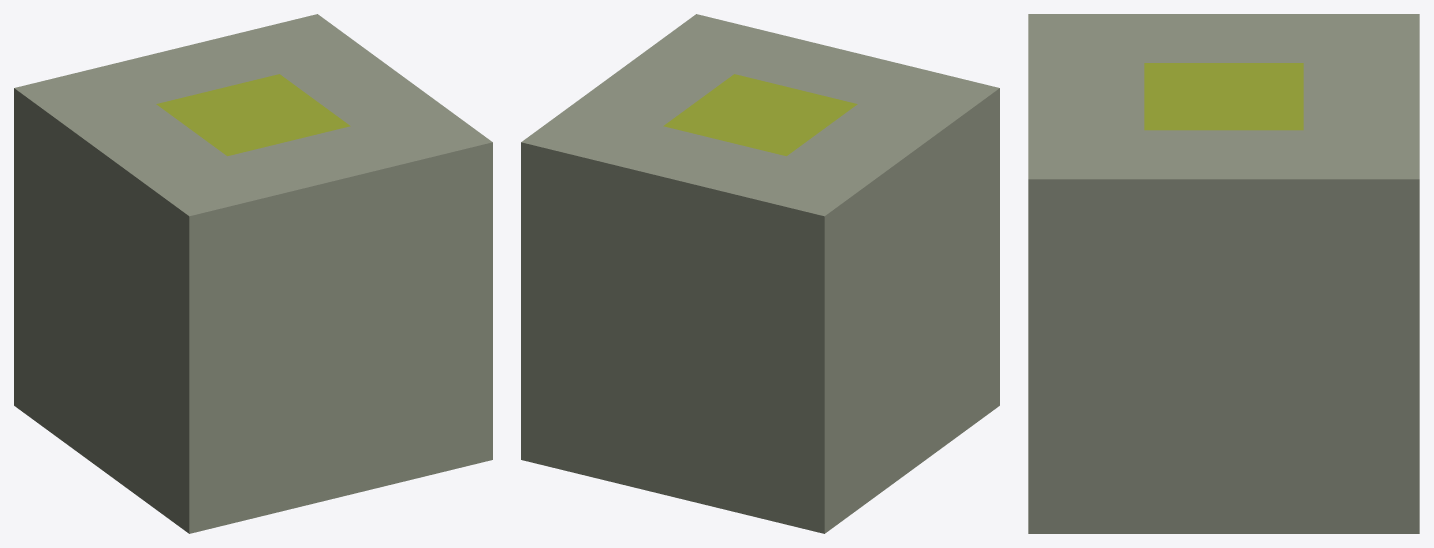
Rendered from base_block_5x5_buildable_units.fbx.
3 views of the same model, side by side, from view 1: azimuth 30°, elevation 25°; view 2: azimuth 150°, elevation 25°; view 3: azimuth 270°, elevation 25° (orthographic). The views are drawn at different scales.
Parts seen in each view (by area): view 1: base_block_5x5_buildable_units; view 2: base_block_5x5_buildable_units; view 3: base_block_5x5_buildable_units.
Boxes of the visible parts, box(x1,y1,x2,y2) form: base_block_5x5_buildable_units: box(14, 14, 492, 533); base_block_5x5_buildable_units: box(521, 14, 999, 533); base_block_5x5_buildable_units: box(1028, 14, 1419, 533).
Bounding box in the file's own units: 5 × 5 × 5.
